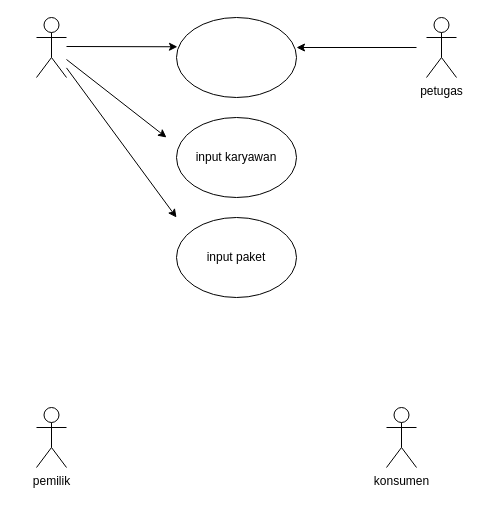
The diagram is 480 pixels wide and 506 high, and some of its shapes have lost their labels. The box of each missing label's shape, as (x1, y1, x2, y2) in pixels:
administrator: (36, 16, 66, 78)
login: (176, 16, 296, 98)
